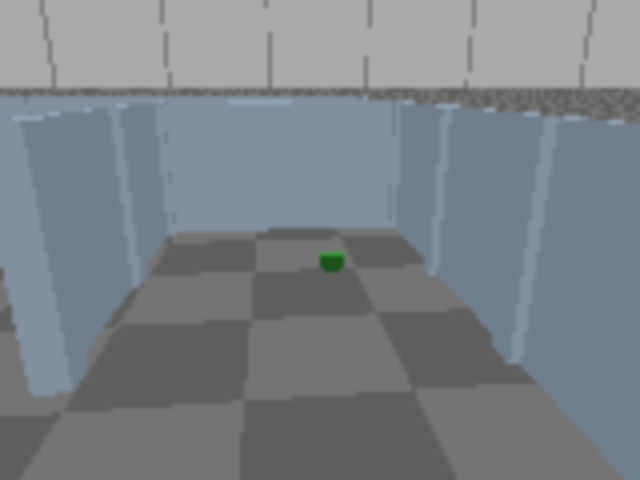puck: (322, 251, 342, 272)
